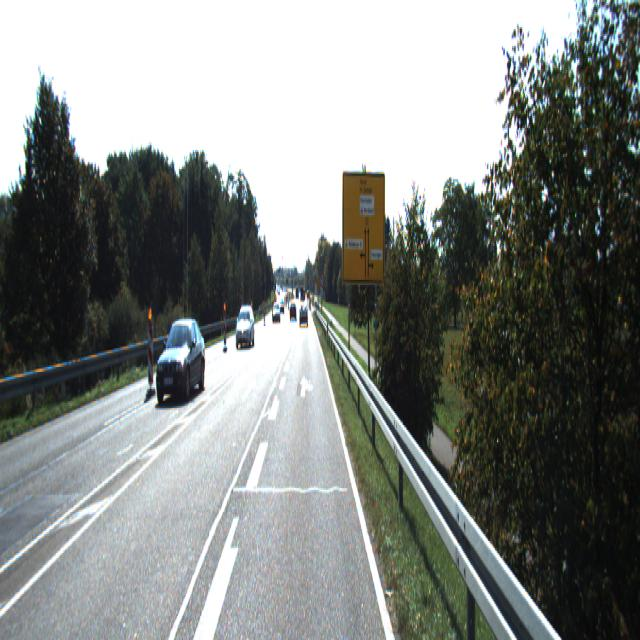Car: (156, 316, 207, 408), (236, 305, 254, 350), (299, 304, 308, 326)
